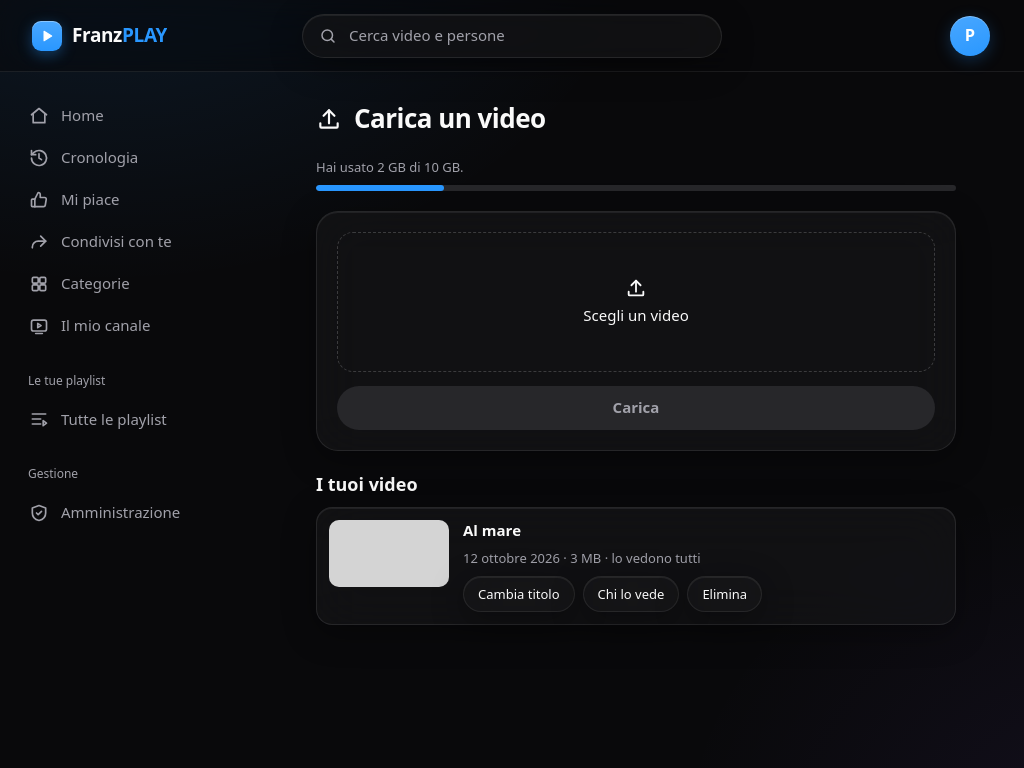
Test: upload page › keeps one of my videos only for me
Expected: the text "12 ottobre 2026 · 3 MB · lo vedono tutti" is shown, [463, 549, 701, 567]
Click the button "Chi lo vede".
click(631, 594)  # box [582, 576, 679, 612]
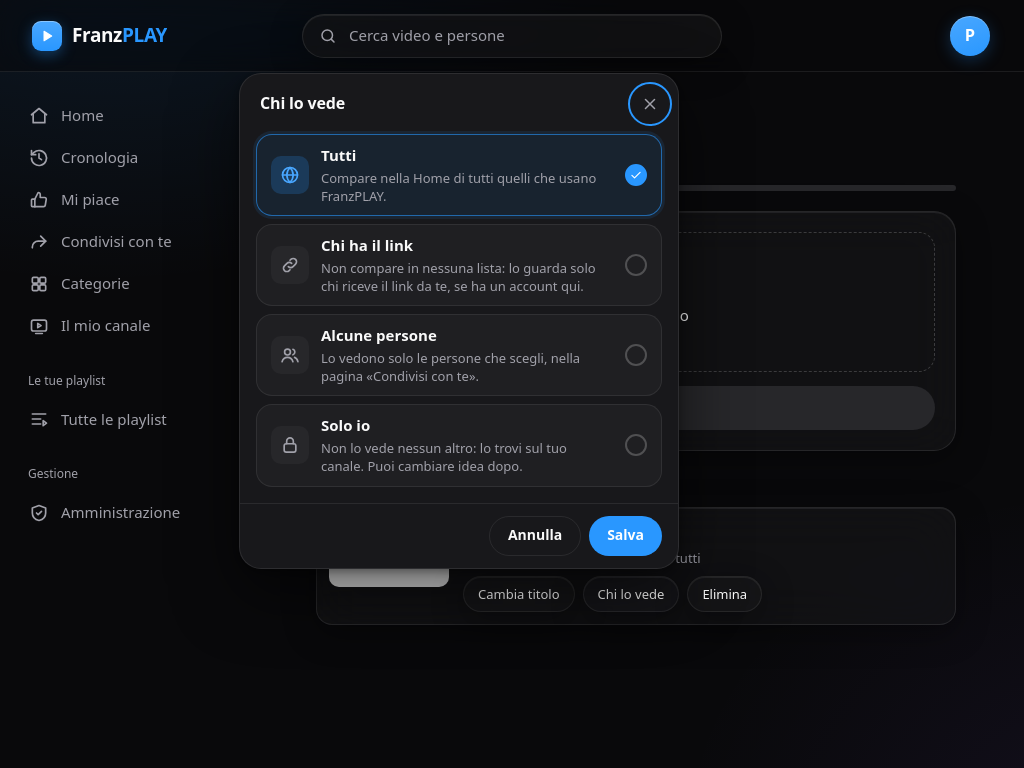
Click the radio button labelled "Solo io".
click(459, 445)  # box [257, 405, 661, 485]
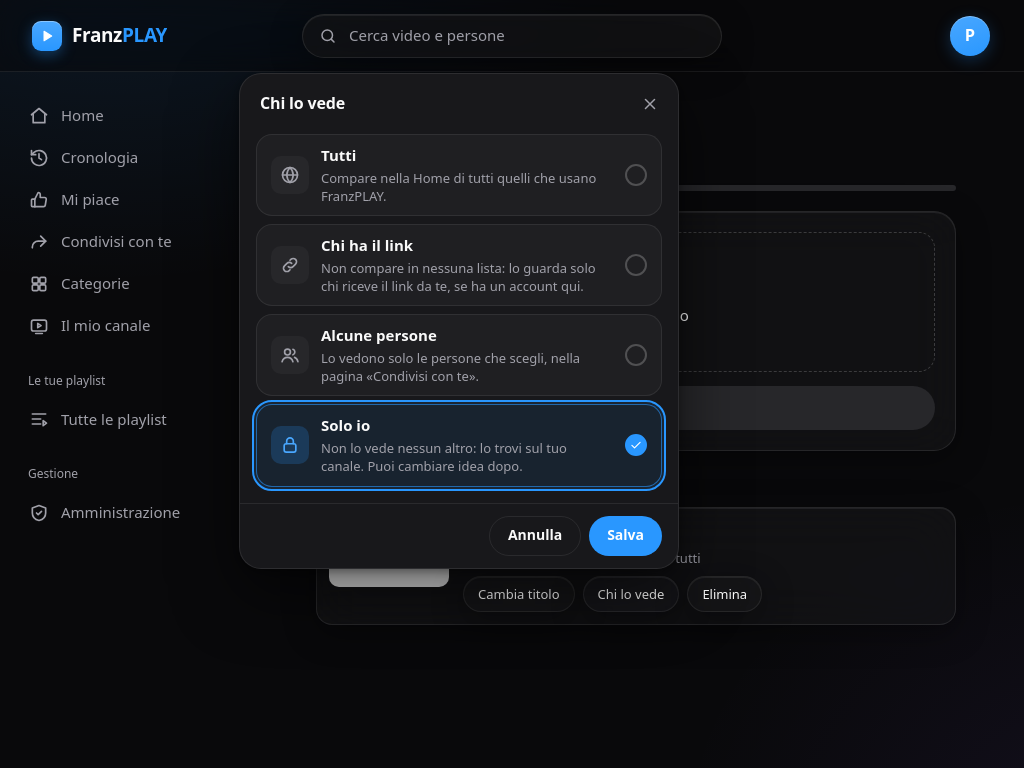
Click the button "Salva".
click(626, 535)  # box [590, 515, 662, 555]
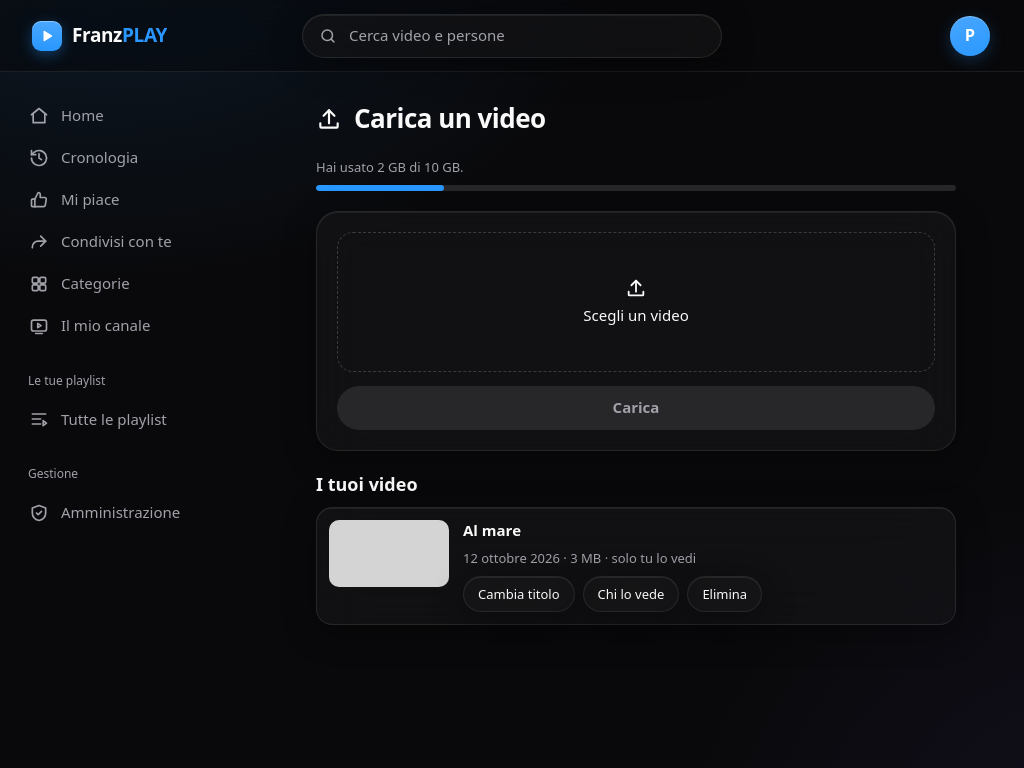
Expected: the text "12 ottobre 2026 · 3 MB · solo tu lo vedi" is shown, [463, 549, 696, 567]
